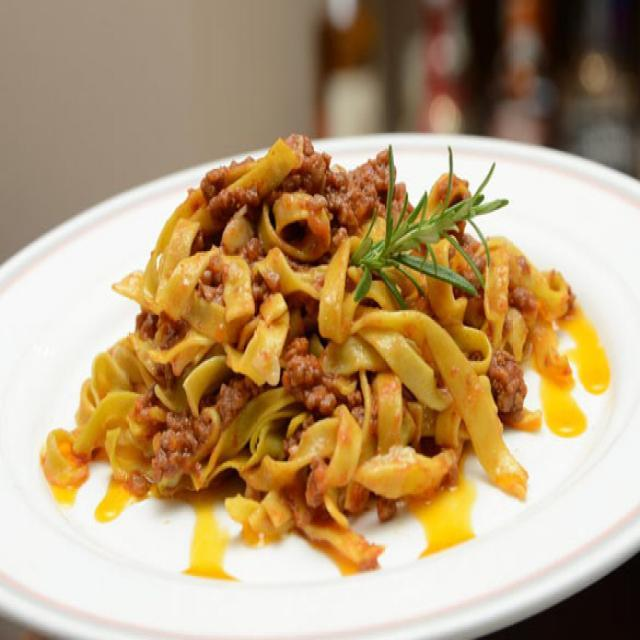Pasta al ragu: (96, 115, 564, 523)
